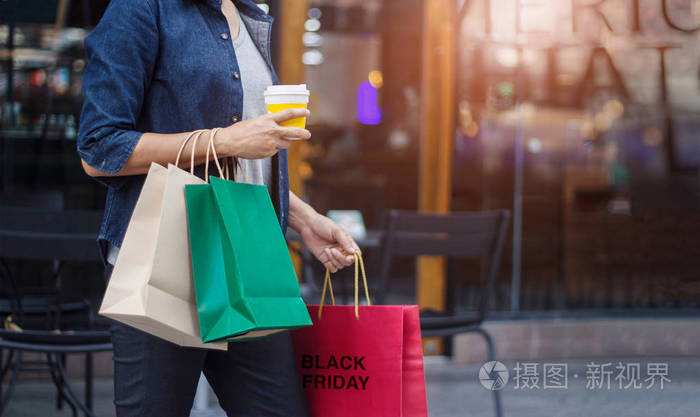no-phone: (225, 78, 317, 162), (302, 215, 376, 291)
